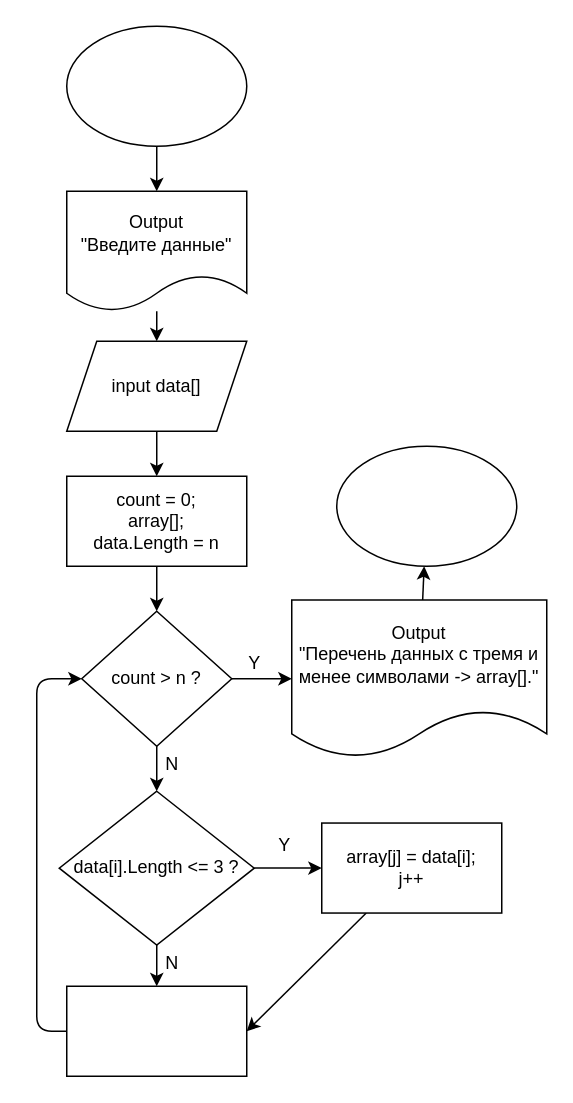
This 573x1103 diagram has some shape labels left out. Each missing label, with the centre of its shape:
"END" belongs at (426,505).
"i++; count++" belongs at (156,1030).
"START" belongs at (156,85).
